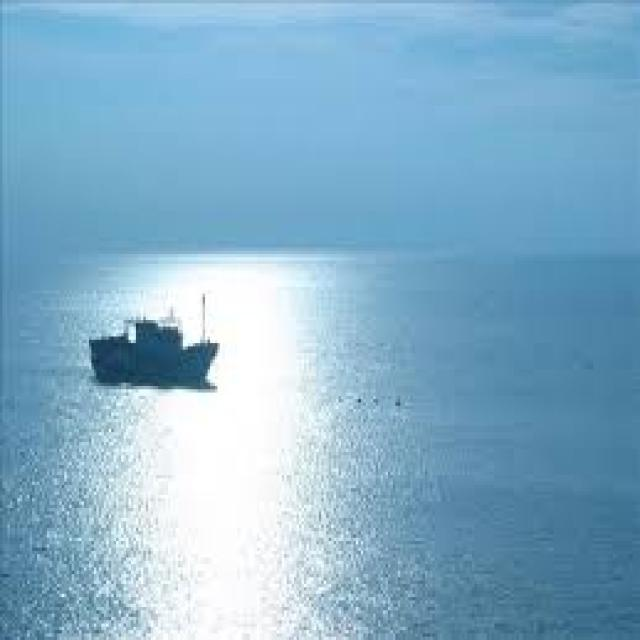fishing boat: (88, 297, 221, 379)
